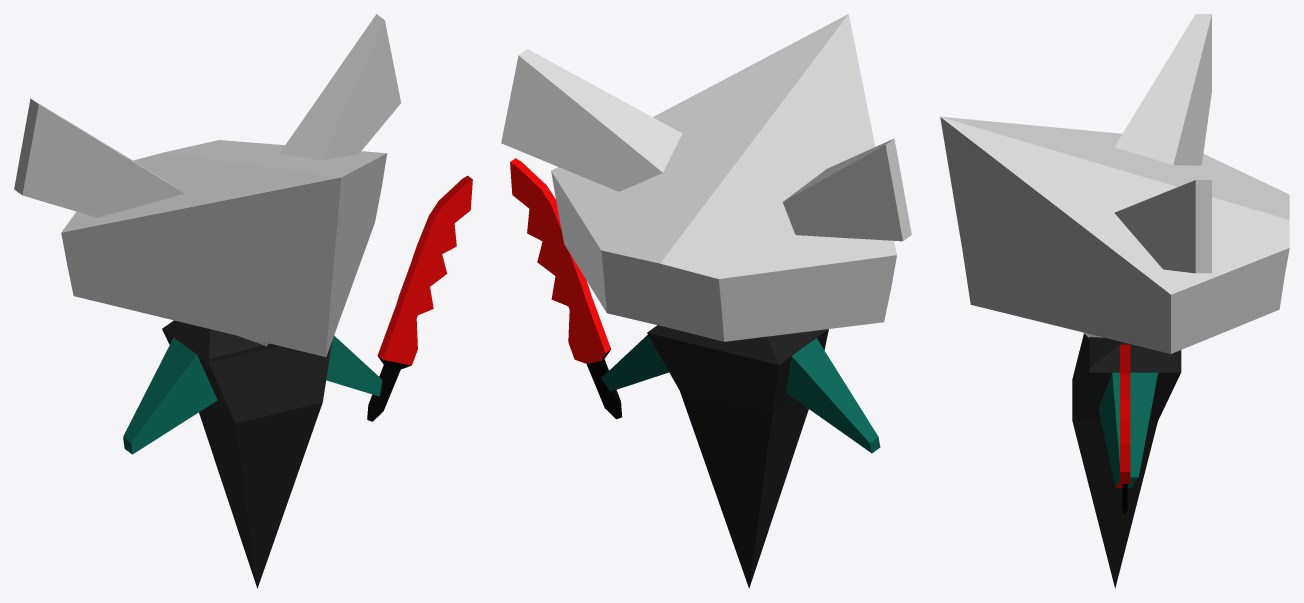
The model's file is Goblin.FBX.
3 views of the same model, side by side, from view 1: azimuth 30°, elevation 25°; view 2: azimuth 150°, elevation 25°; view 3: azimuth 270°, elevation 25° (orthographic). The views are drawn at different scales.
Visible parts, largest first — view 1: Box002, Pyramid001, Box003; view 2: Box002, Pyramid001, Box003; view 3: Box002, Pyramid001, Box003.
Part boxes in pixels (x1,y1,x2,y2): Box002: (14,14,400,356); Pyramid001: (123,320,382,588); Box003: (367,175,472,421); Box002: (501,14,911,341); Pyramid001: (601,325,880,588); Box003: (510,158,622,419); Box002: (940,14,1289,353); Pyramid001: (1072,333,1181,588); Box003: (1120,344,1130,513).
Size of the model in its own units: 28.72 by 33.17 by 21.47.
